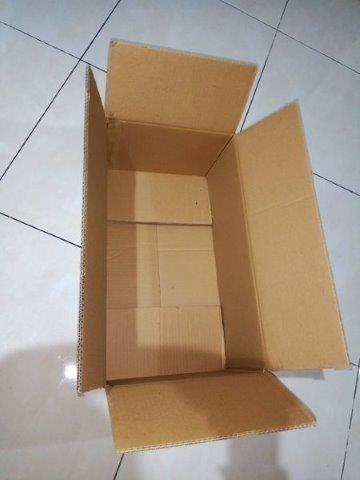kardus: (85, 38, 341, 432)
